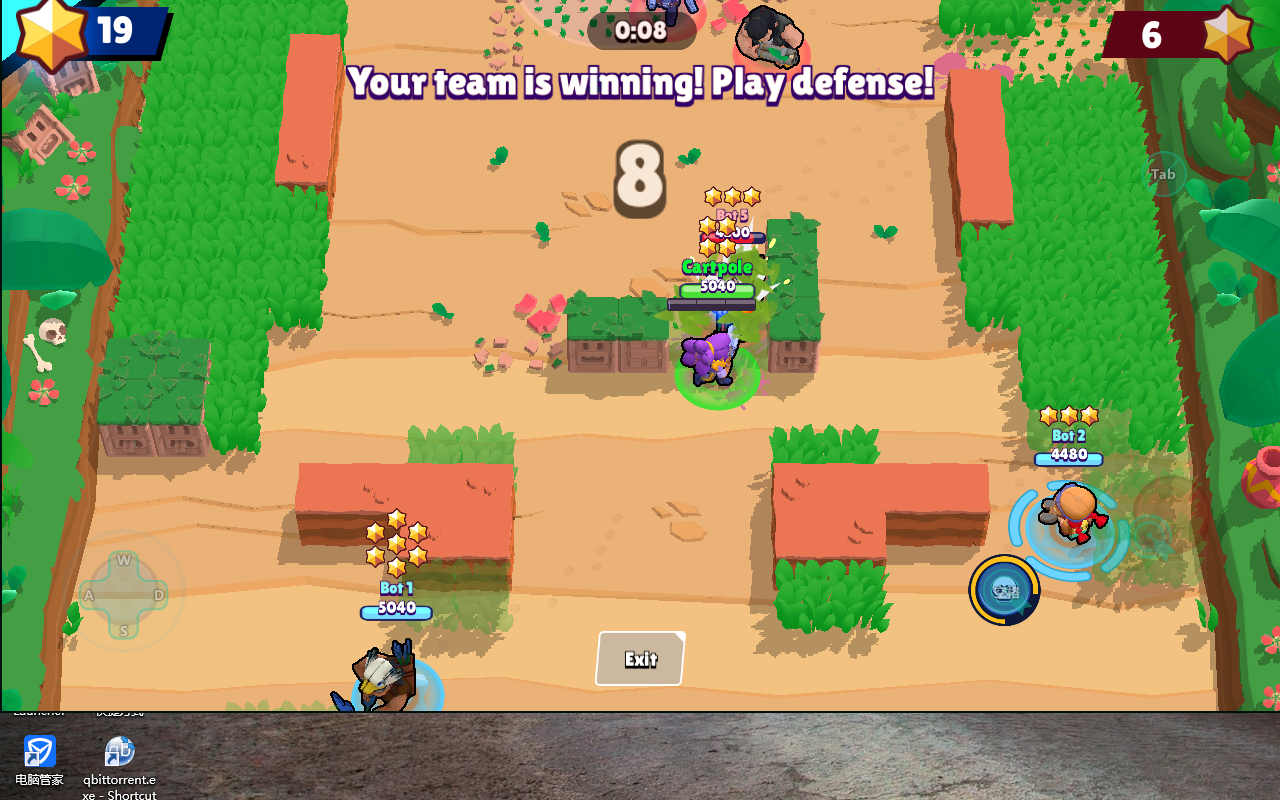current_player: (676, 338, 761, 409)
